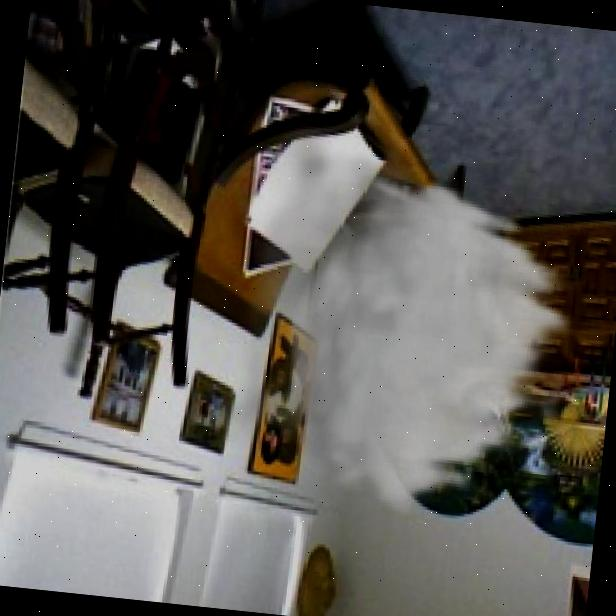smoke: (199, 88, 603, 535)
